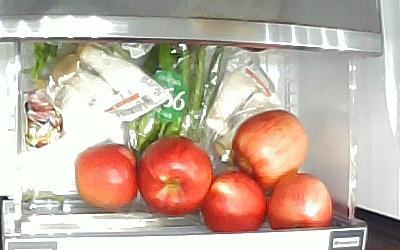apple: (230, 108, 310, 188), (139, 137, 213, 215), (74, 143, 139, 214), (266, 173, 336, 230), (204, 172, 266, 233)
